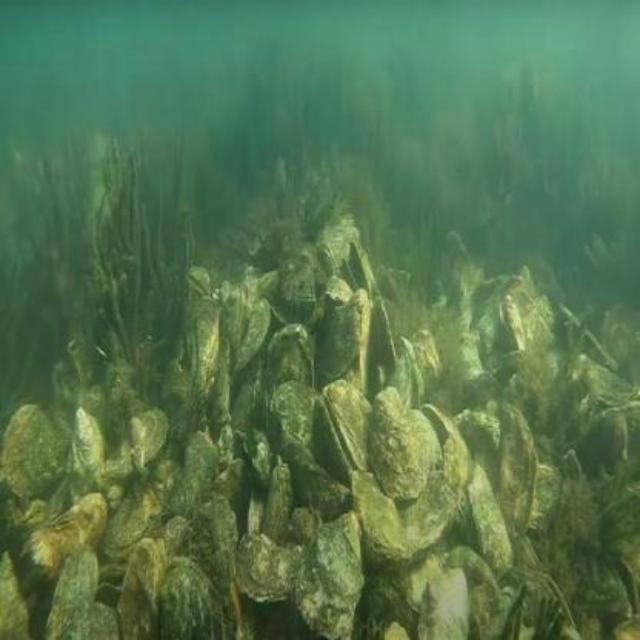Oyster-Closed: (352, 404, 451, 562), (295, 515, 366, 639), (171, 497, 236, 603), (367, 392, 429, 503), (4, 403, 70, 498), (281, 437, 350, 522), (159, 557, 228, 640), (498, 399, 540, 532), (46, 546, 103, 640), (102, 479, 159, 570), (469, 471, 512, 584), (319, 294, 369, 387), (516, 569, 581, 640), (117, 544, 162, 640), (239, 537, 305, 602), (266, 320, 317, 401), (325, 378, 371, 465), (314, 399, 359, 486), (418, 570, 471, 640), (270, 377, 321, 443), (188, 301, 220, 406), (73, 410, 104, 497), (372, 284, 398, 382), (132, 404, 168, 473), (60, 600, 121, 640), (604, 301, 640, 366), (238, 296, 270, 368), (583, 365, 633, 404), (262, 464, 280, 543), (390, 349, 410, 406), (316, 240, 343, 279), (96, 584, 125, 607)
Oyster-Open: (606, 553, 638, 620), (342, 238, 371, 302)
